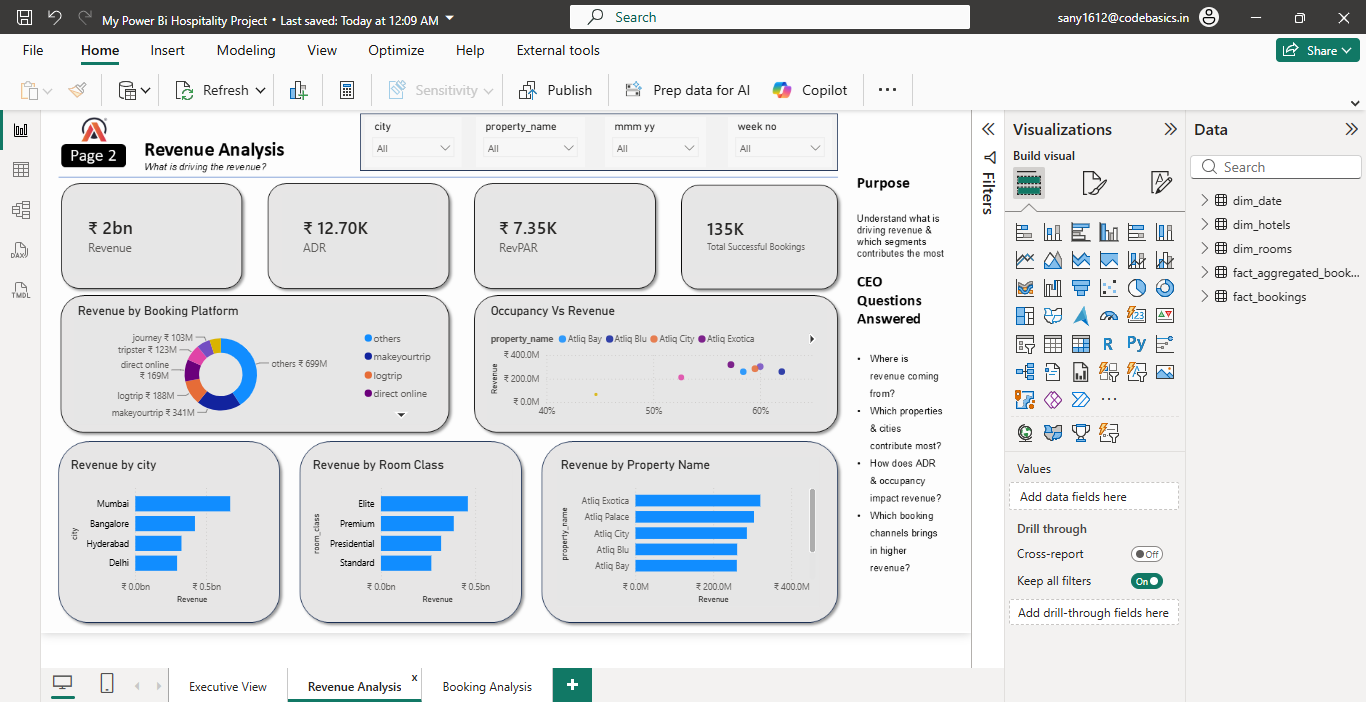

What the dashboard file says about the page in this screenshot:
{"tool":"powerbi","page":{"name":"Revenue Analysis","canvas":[1280,720],"ordinal":1},"visuals":[{"type":"slicer","fields":{"Values":["dim_hotels.city"]},"box":[446.2,10,133,68.6],"z":0},{"type":"slicer","fields":{"Values":["dim_hotels.property_name"]},"box":[599.2,10,150.2,68.6],"z":1000},{"type":"slicer","fields":{"Values":["dim_date.mmm yy"]},"box":[776.6,10,138.7,68.6],"z":2000},{"type":"slicer","fields":{"Values":["dim_date.week no"]},"box":[945.3,10,143,68.6],"z":3000},{"type":"cardVisual","fields":{"Data":["fact_bookings.Revenue"]},"box":[35.8,114.4,233.1,114.4],"z":4000},{"type":"cardVisual","fields":{"Data":["fact_bookings.ADR"]},"box":[331.8,114.4,213.1,114.4],"z":5000},{"type":"cardVisual","fields":{"Data":["fact_aggregated_bookings.RevPAR"]},"box":[602.1,114.4,237.4,114.4],"z":6000},{"type":"cardVisual","fields":{"Data":["fact_aggregated_bookings.Total Successful Bookings"]},"box":[888.1,114.4,203.1,114.4],"z":7000},{"type":"scatterChart","title":"Occupancy Vs Revenue","fields":{"Series":["dim_hotels.property_name"],"Size":["fact_bookings.Total Bookings"],"X":["fact_aggregated_bookings.Occupancy %"],"Y":["fact_bookings.Revenue"]},"box":[613.8,265.6,466.6,166.5],"z":8000},{"type":"barChart","title":"Revenue by Property Name","fields":{"Category":["dim_hotels.property_name"],"Y":["fact_bookings.Revenue"]},"box":[710.2,477.6,360.6,206.5],"z":9000},{"type":"barChart","fields":{"Category":["dim_hotels.city"],"Y":["fact_bookings.Revenue"]},"box":[35.8,477.6,275.3,206.5],"z":10000},{"type":"barChart","title":"Revenue by Room Class","fields":{"Category":["dim_rooms.room_class"],"Y":["fact_bookings.Revenue"]},"box":[368.9,477.6,280,206.5],"z":11000},{"type":"donutChart","title":"Revenue by Booking Platform","fields":{"Category":["fact_bookings.booking_platform"],"Y":["fact_bookings.Revenue"]},"box":[45.4,265.6,505.1,166.5],"z":12000},{"type":"image","box":[9.6,9.6,128,34.4],"z":13000}]}

Visuals, with their boxes on the page's 1280x720 design canvas (x1, y1, x2, y2). These are canvas units, not pixel positions in the 1366x702 screenshot, which may show the page scaled, cropped or inside an application window:
slicer - dim_hotels.city: (left=446, top=10, right=579, bottom=79)
slicer - dim_hotels.property_name: (left=599, top=10, right=749, bottom=79)
slicer - dim_date.mmm yy: (left=777, top=10, right=915, bottom=79)
slicer - dim_date.week no: (left=945, top=10, right=1088, bottom=79)
cardVisual - fact_bookings.Revenue: (left=36, top=114, right=269, bottom=229)
cardVisual - fact_bookings.ADR: (left=332, top=114, right=545, bottom=229)
cardVisual - fact_aggregated_bookings.RevPAR: (left=602, top=114, right=840, bottom=229)
cardVisual - fact_aggregated_bookings.Total Successful Bookings: (left=888, top=114, right=1091, bottom=229)
"Occupancy Vs Revenue" scatterChart: (left=614, top=266, right=1080, bottom=432)
"Revenue by Property Name" barChart: (left=710, top=478, right=1071, bottom=684)
barChart - dim_hotels.city x fact_bookings.Revenue: (left=36, top=478, right=311, bottom=684)
"Revenue by Room Class" barChart: (left=369, top=478, right=649, bottom=684)
"Revenue by Booking Platform" donutChart: (left=45, top=266, right=550, bottom=432)
image: (left=10, top=10, right=138, bottom=44)
